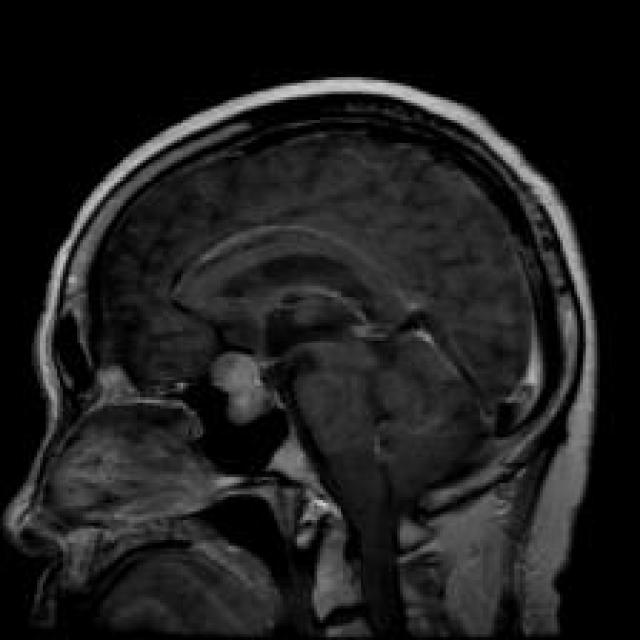pituitary_tumor: (198, 329, 296, 432)
